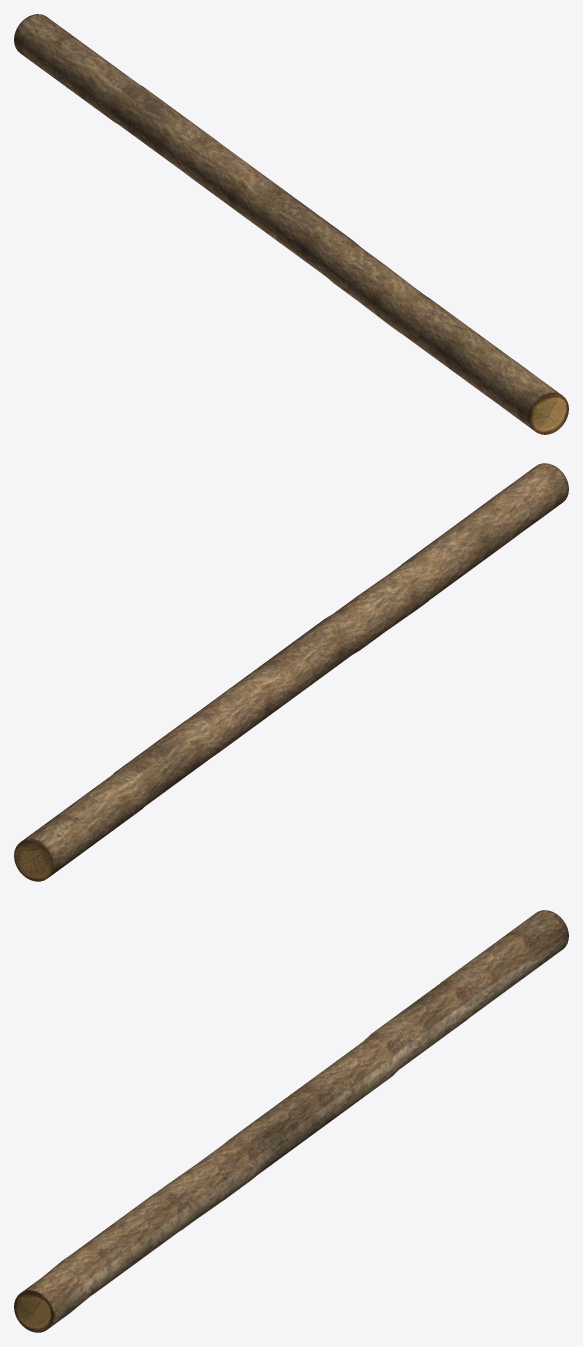
File: log.fbx
3 views of the same model, one above another, from view 1: azimuth 30°, elevation 25°; view 2: azimuth 150°, elevation 25°; view 3: azimuth 330°, elevation 25° (orthographic).
Visible parts, largest first — view 1: Cylinder.001; view 2: Cylinder.001; view 3: Cylinder.001.
Boxes of the visible parts, x1,y1,x2,y2 form: Cylinder.001: (14, 14, 568, 434); Cylinder.001: (14, 463, 568, 881); Cylinder.001: (14, 910, 568, 1332).
Bounding box in the file's own units: 61.83 × 63.02 × 1359.
Materials: 1 (1 with a texture image).
